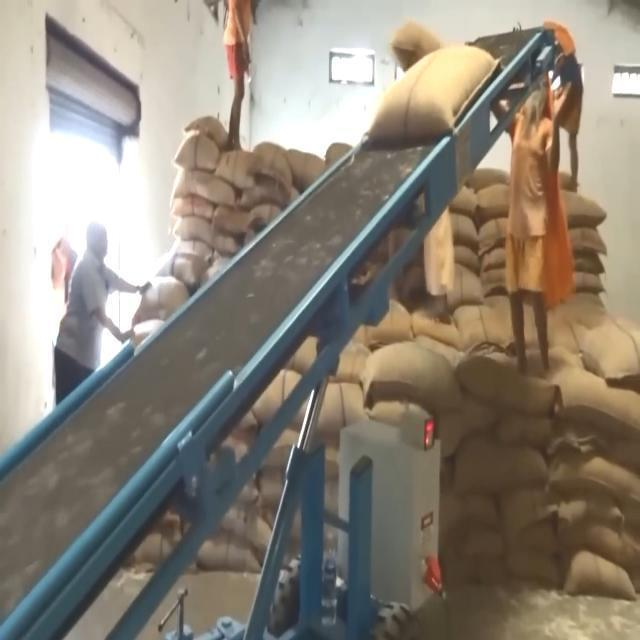gunny_bag: (362, 40, 505, 150), (464, 354, 564, 432), (358, 339, 456, 412), (457, 428, 555, 500), (554, 370, 640, 437), (566, 314, 640, 388), (544, 454, 640, 501), (558, 550, 634, 599), (408, 303, 472, 351), (168, 169, 234, 209), (170, 216, 230, 252), (148, 252, 204, 290), (248, 138, 294, 184), (217, 148, 258, 195), (173, 137, 220, 176), (176, 116, 241, 144)
